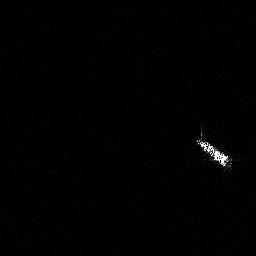ship: (193, 133, 235, 171)
